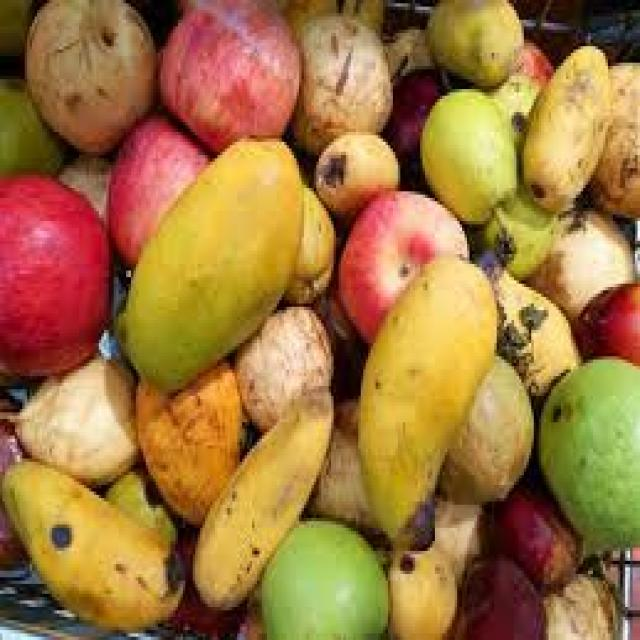organic waste: (109, 129, 304, 386), (351, 247, 497, 541), (188, 383, 331, 610), (0, 455, 183, 627), (0, 172, 111, 376), (469, 36, 566, 264), (153, 0, 299, 145), (22, 0, 156, 155), (131, 353, 242, 531), (336, 182, 465, 334), (534, 356, 638, 538), (0, 353, 136, 492), (99, 102, 207, 264), (479, 241, 578, 399), (259, 518, 388, 637), (418, 82, 516, 234), (432, 346, 529, 495), (519, 40, 608, 198), (232, 300, 334, 426), (522, 201, 630, 310), (292, 13, 388, 135), (309, 396, 388, 534), (486, 475, 580, 584), (156, 524, 247, 636), (272, 148, 331, 304), (583, 56, 638, 208), (422, 0, 522, 79), (381, 534, 457, 637), (0, 386, 42, 571), (455, 551, 541, 637), (383, 66, 445, 172), (312, 129, 401, 201), (568, 274, 638, 359), (99, 465, 175, 541), (541, 558, 615, 636), (0, 72, 57, 172), (428, 488, 494, 574), (57, 152, 111, 218), (380, 23, 435, 73), (274, 0, 383, 23), (0, 0, 34, 59), (227, 594, 272, 637)
